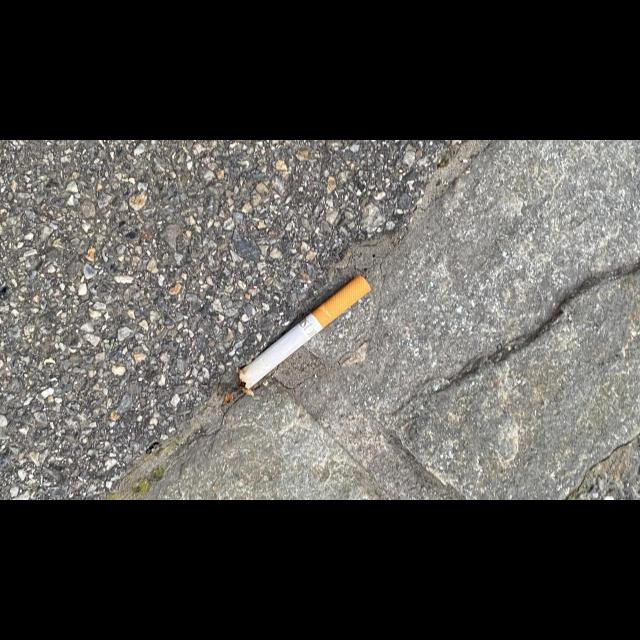cigarette: (237, 274, 372, 391)
